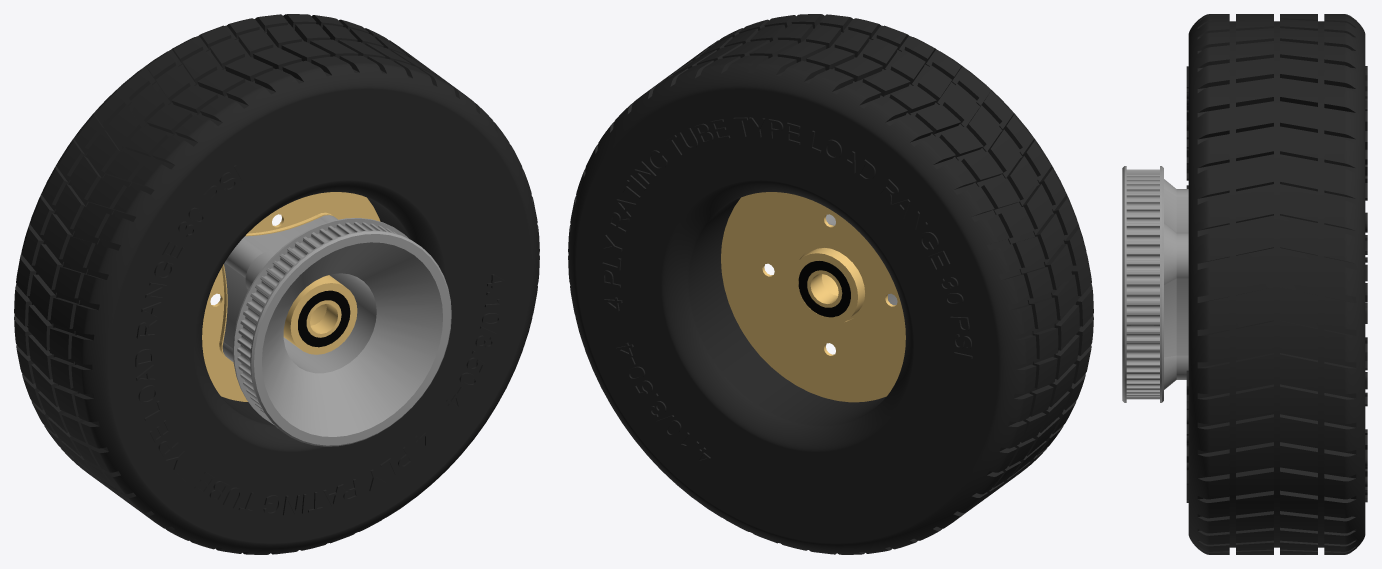
File: wheel_asspmbly_urdf_right.obj
The picture shows the model from 3 angles, left to right: view 1: azimuth 30°, elevation 25°; view 2: azimuth 150°, elevation 25°; view 3: azimuth 270°, elevation 25°; orthographic projection. The views are drawn at different scales.
Parts seen in each view (by area): view 1: Body1, Body1:1, Body2, Body1:4, Body1:3, Body4, Body3; view 2: Body1, Body2, Body1:3, Body1:2, Body2:1; view 3: Body1, Body1:1.
Boxes of the visible parts, <box> form: Body1: <box>14,14,539,554</box>; Body1:1: <box>233,218,451,446</box>; Body2: <box>202,192,380,401</box>; Body1:4: <box>222,215,360,361</box>; Body1:3: <box>219,212,357,357</box>; Body4: <box>298,290,350,347</box>; Body3: <box>306,300,341,337</box>; Body1: <box>568,14,1093,554</box>; Body2: <box>721,192,905,402</box>; Body1:3: <box>791,224,887,324</box>; Body1:2: <box>798,261,850,317</box>; Body2:1: <box>807,270,842,307</box>; Body1: <box>1186,14,1367,554</box>; Body1:1: <box>1122,166,1188,402</box>.
Bounding box in the file's own units: 260 × 260 × 118.
